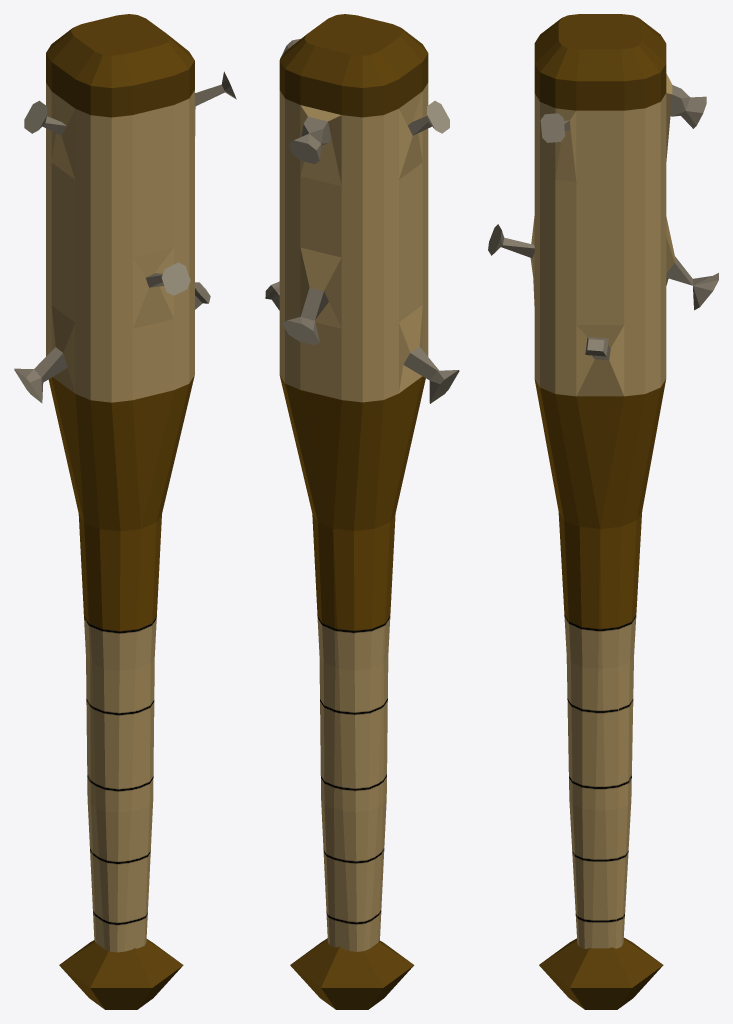
File: kugibat.fbx
3 views of the same model, side by side, from view 1: azimuth 30°, elevation 25°; view 2: azimuth 150°, elevation 25°; view 3: azimuth 270°, elevation 25° (orthographic).
Parts seen in each view (by area): view 1: Cylinder; view 2: Cylinder; view 3: Cylinder.
Boxes of the visible parts, x1,y1,x2,y2 form: Cylinder: (14,14,236,1009); Cylinder: (265,14,459,1009); Cylinder: (488,14,718,1009).
Size of the model in its own units: 338 by 1618 by 351.
1 material, 1 textured.
